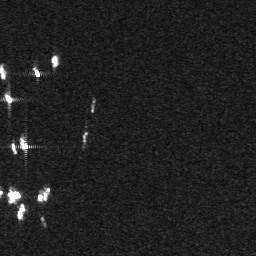ship: (36, 187, 51, 202), (18, 135, 31, 151), (15, 203, 27, 219), (50, 54, 60, 69), (4, 93, 15, 104), (33, 66, 42, 79), (10, 142, 19, 154), (1, 64, 7, 80)
